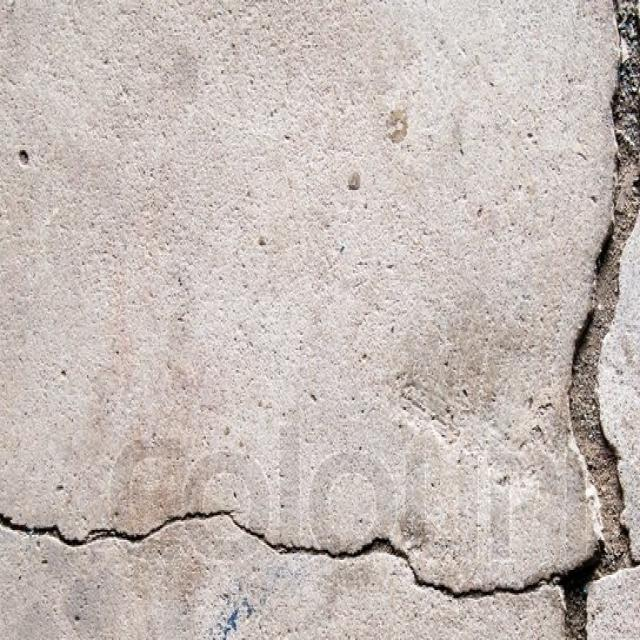crack: (0, 504, 556, 604)
spall: (554, 0, 639, 637)
